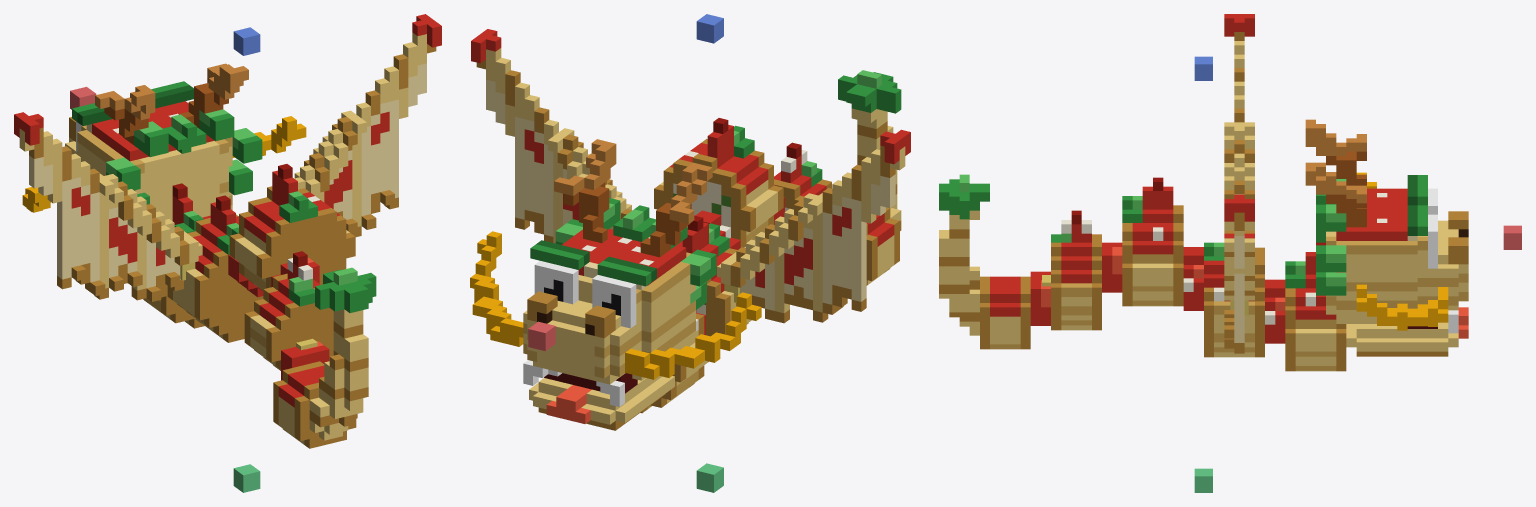
File: DragonCannelloni.glb
3 renders of one model, left to right at view 1: azimuth 30°, elevation 25°; view 2: azimuth 150°, elevation 25°; view 3: azimuth 270°, elevation 25°, orthographic. The views are drawn at different scales.
Parts seen in each view (by area): view 1: DragonCannelloni_Body, DragonCannelloni_Head4, DragonCannelloni_Wing3, DragonCannelloni_Wing2, DragonCannelloni_Tail1, DragonCannelloni_Built, DragonCannelloni_Top; view 2: DragonCannelloni_Head4, DragonCannelloni_Wing3, DragonCannelloni_Body, DragonCannelloni_Wing2, DragonCannelloni_Tail1, DragonCannelloni_Built, DragonCannelloni_Front, DragonCannelloni_Top; view 3: DragonCannelloni_Head4, DragonCannelloni_Body, DragonCannelloni_Tail1, DragonCannelloni_Wing3, DragonCannelloni_Wing2.
Boxes of the visible parts, x1,y1,x2,y2 form: DragonCannelloni_Body: (143,164,355,370); DragonCannelloni_Head4: (22,63,306,220); DragonCannelloni_Wing3: (14,112,202,301); DragonCannelloni_Wing2: (294,14,441,236); DragonCannelloni_Tail1: (273,267,376,448); DragonCannelloni_Built: (233,464,260,492); DragonCannelloni_Top: (233,27,260,55); DragonCannelloni_Head4: (470,139,761,430); DragonCannelloni_Wing3: (717,129,910,323); DragonCannelloni_Body: (640,118,831,413); DragonCannelloni_Wing2: (471,29,650,243); DragonCannelloni_Tail1: (838,70,901,285); DragonCannelloni_Built: (696,463,723,492); DragonCannelloni_Front: (528,321,555,351); DragonCannelloni_Top: (696,14,723,43); DragonCannelloni_Head4: (1305,119,1468,356); DragonCannelloni_Body: (1051,177,1346,371); DragonCannelloni_Tail1: (939,174,1050,349); DragonCannelloni_Wing3: (1224,14,1254,233); DragonCannelloni_Wing2: (1224,194,1254,353).
Bounding box in the file's own units: 6.11 × 6.45 × 7.95.
1 material, 1 textured.
